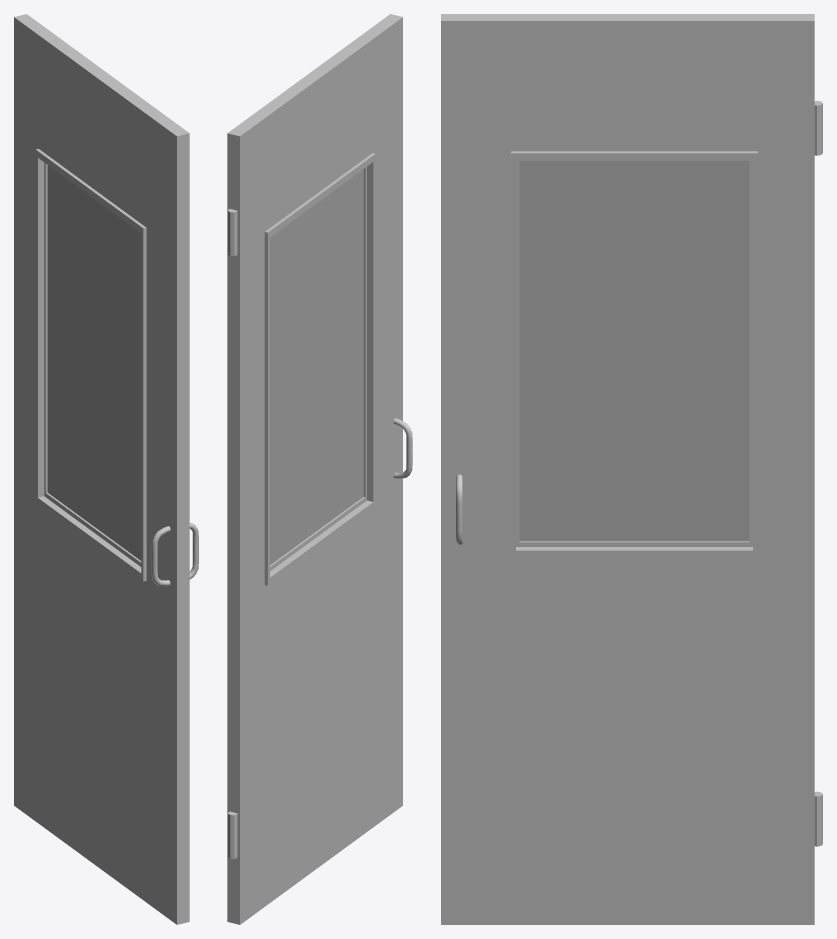
File: SM_Door_01.fbx
3 renders of one model, left to right at view 1: azimuth 30°, elevation 25°; view 2: azimuth 150°, elevation 25°; view 3: azimuth 270°, elevation 25°, orthographic. The views are drawn at different scales.
Parts seen in each view (by area): view 1: SM_Door_01; view 2: SM_Door_01; view 3: SM_Door_01.
Part boxes in pixels (bbox=[...]): SM_Door_01: bbox=[14, 14, 198, 924]; SM_Door_01: bbox=[227, 14, 412, 924]; SM_Door_01: bbox=[441, 14, 822, 924].
Size of the model in its own units: 14.69 by 238 by 91.06.
